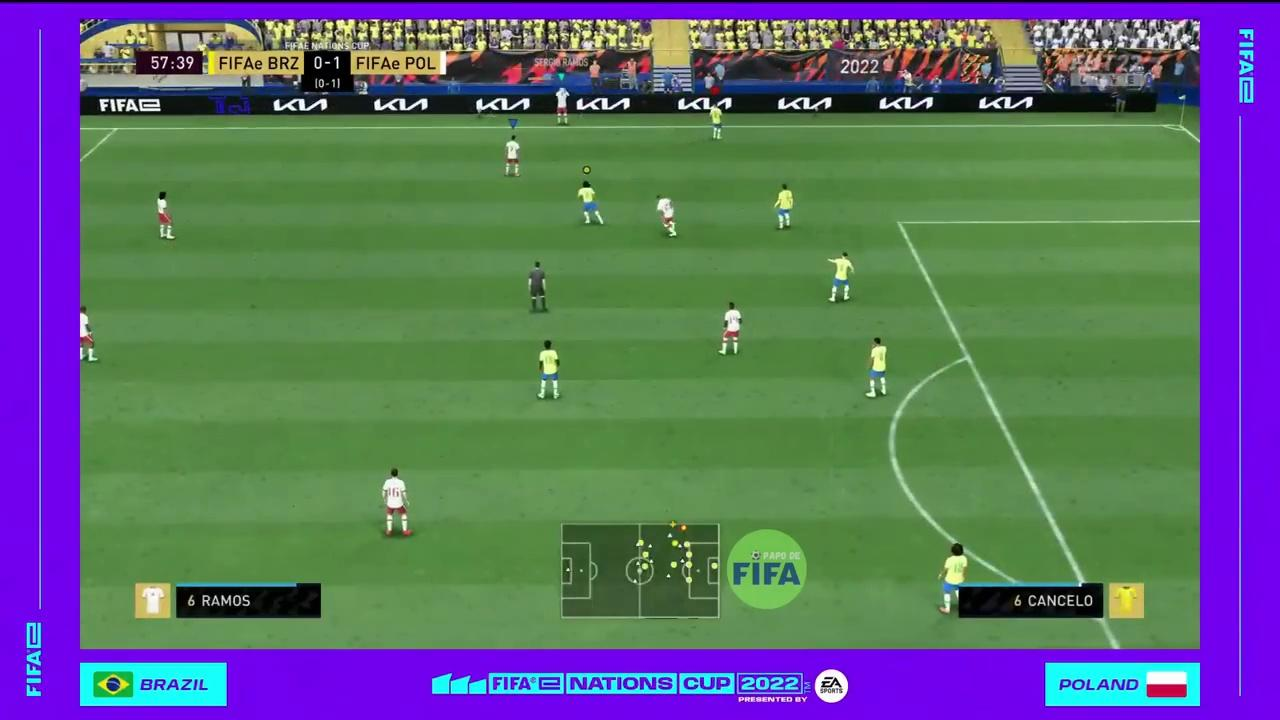scoreboard: (210, 50, 449, 77)
timestamp: (135, 49, 205, 74)
